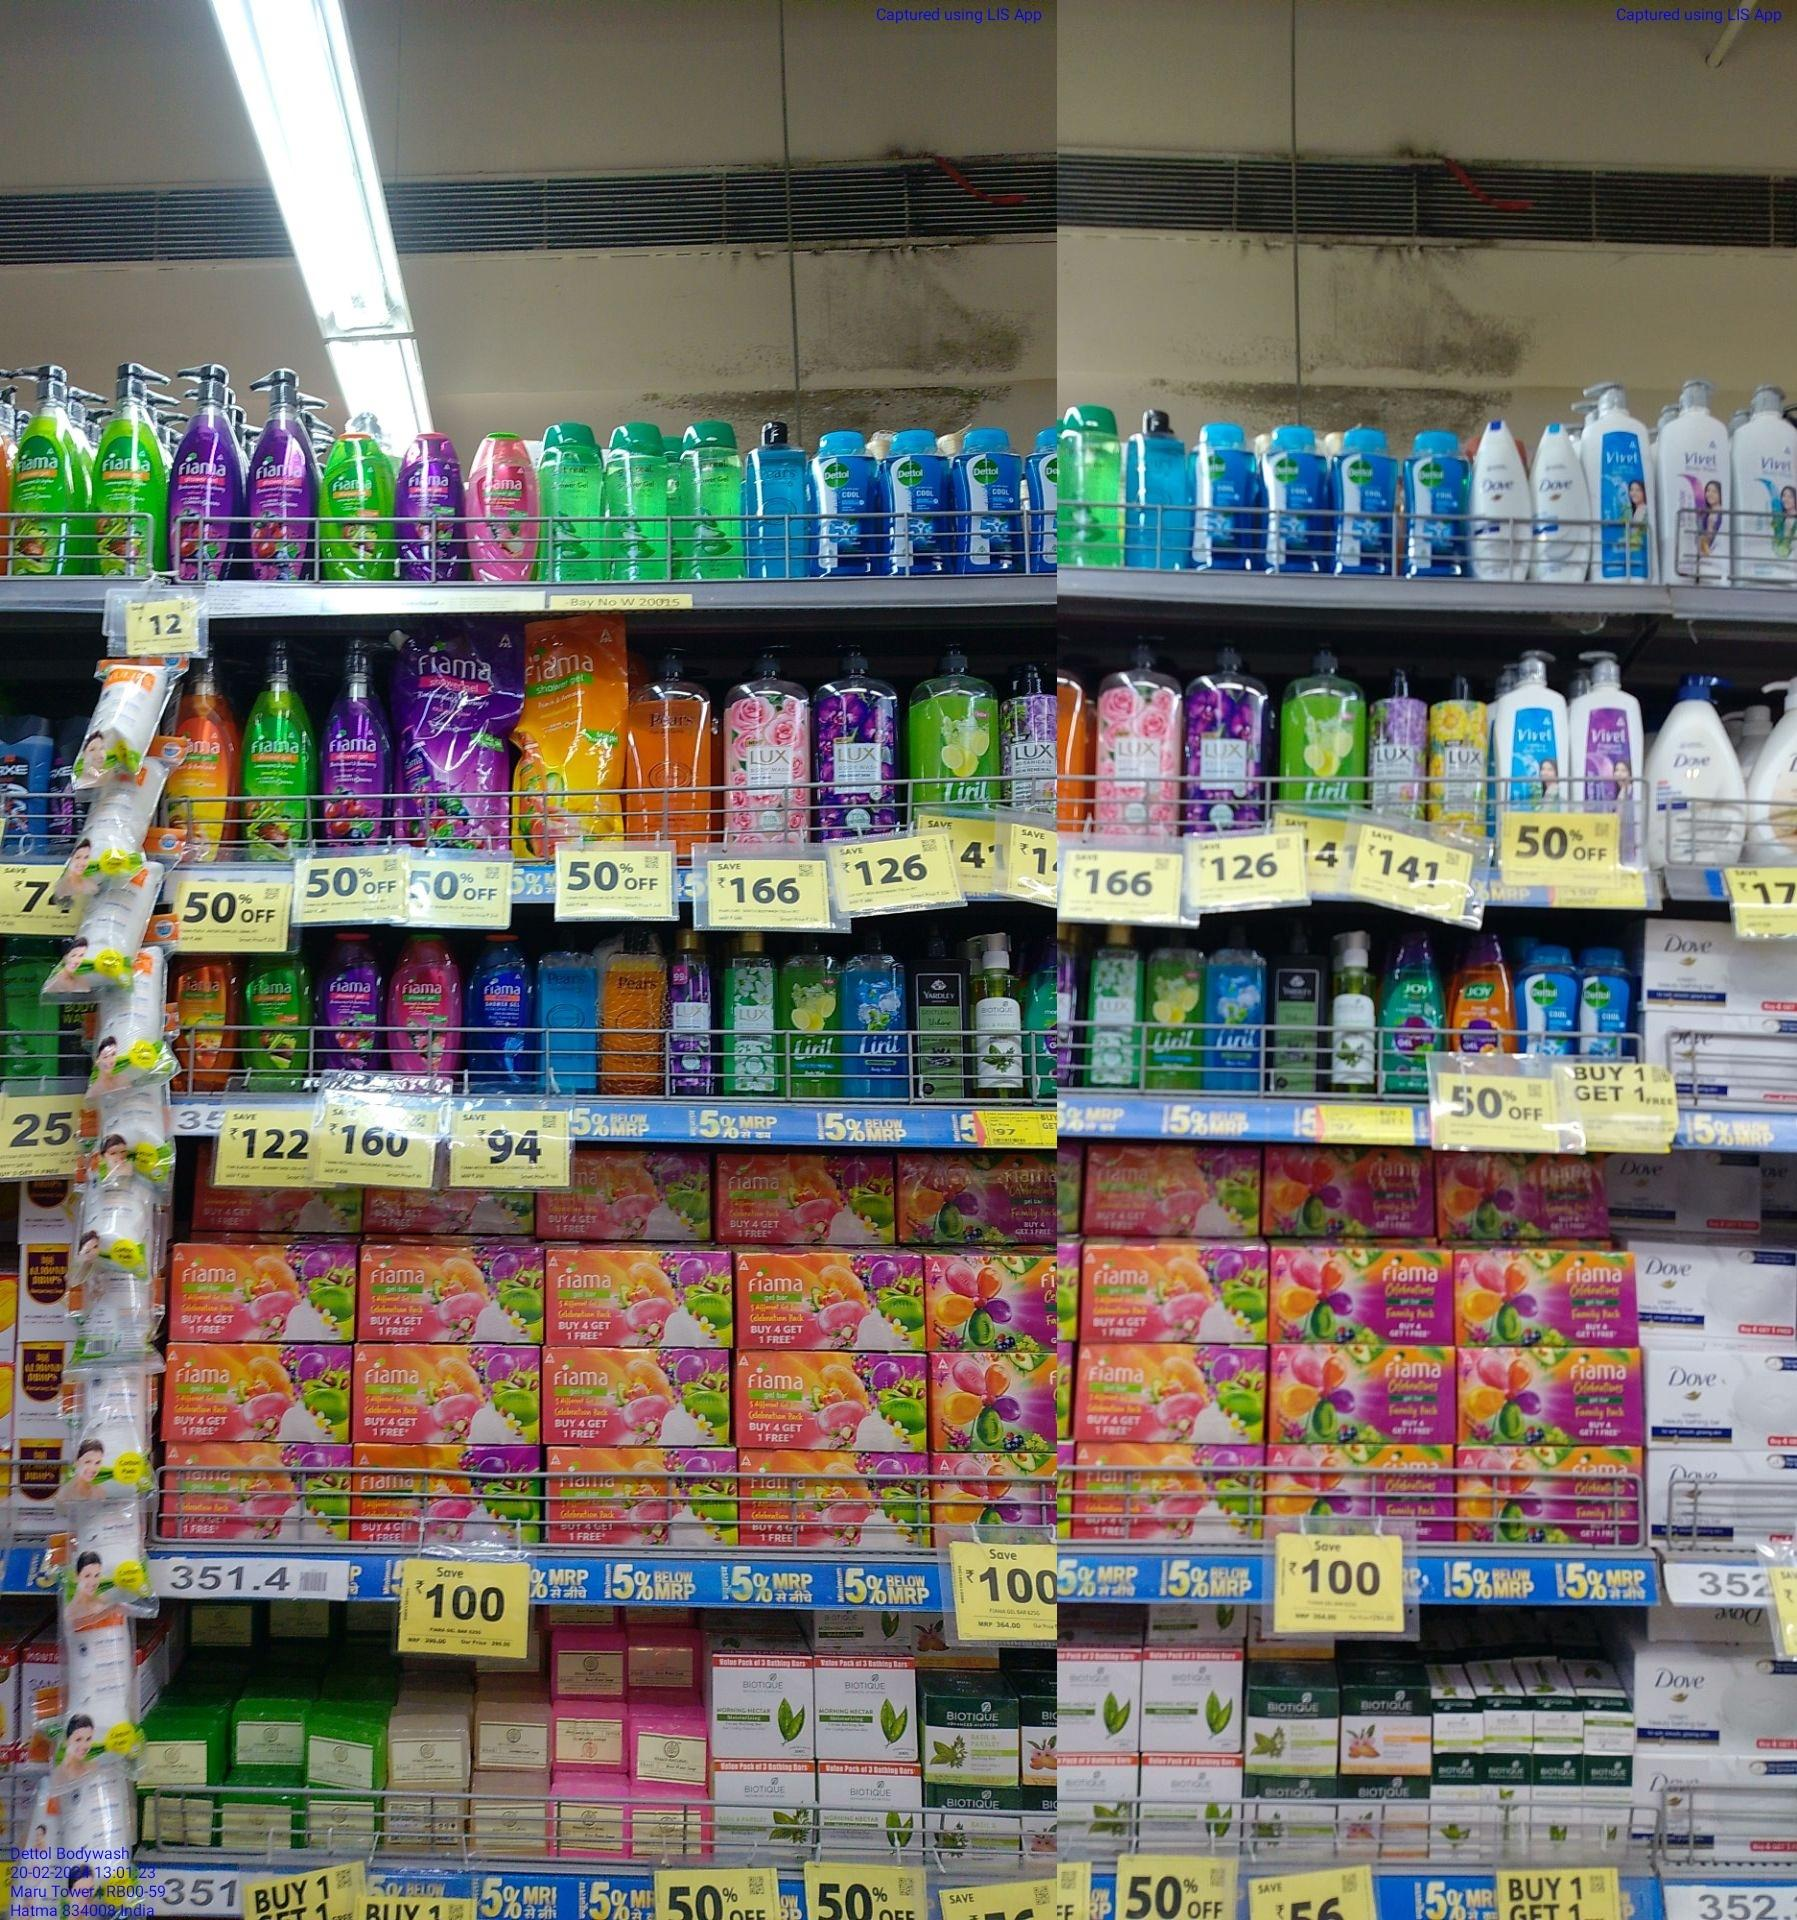Dettol_Bodywash_Cool: (949, 427, 1025, 572), (809, 429, 878, 576), (880, 429, 949, 574)
Fiama_Shower_Gel_Lemongrass_and_Jojoba_250ML: (318, 432, 395, 581)
Fiama_Shower_Gel_Patchouli_and_Macadamia_250ML: (464, 431, 540, 581), (387, 932, 463, 1076)
Liril_Cooling_Mint_Body_Wash_250ML: (841, 932, 909, 1099)
Liril_Lime_and_Tea_Tree_Oil_Body_Wash_250ML: (779, 932, 841, 1096)
Lux_Black_Orchid_Scent_and_Juniper_Oil_Body_Wash_245ML: (665, 925, 714, 1096)
Lux_Body_Wash_Skin_Detox_Freesia_Scent_and_Alove_Vera_245ML: (723, 929, 779, 1096)
Pears_Pure_Glycerin_and_Mint_Extracts_Body_Wash_250ML: (534, 927, 600, 1093), (745, 419, 807, 576)
